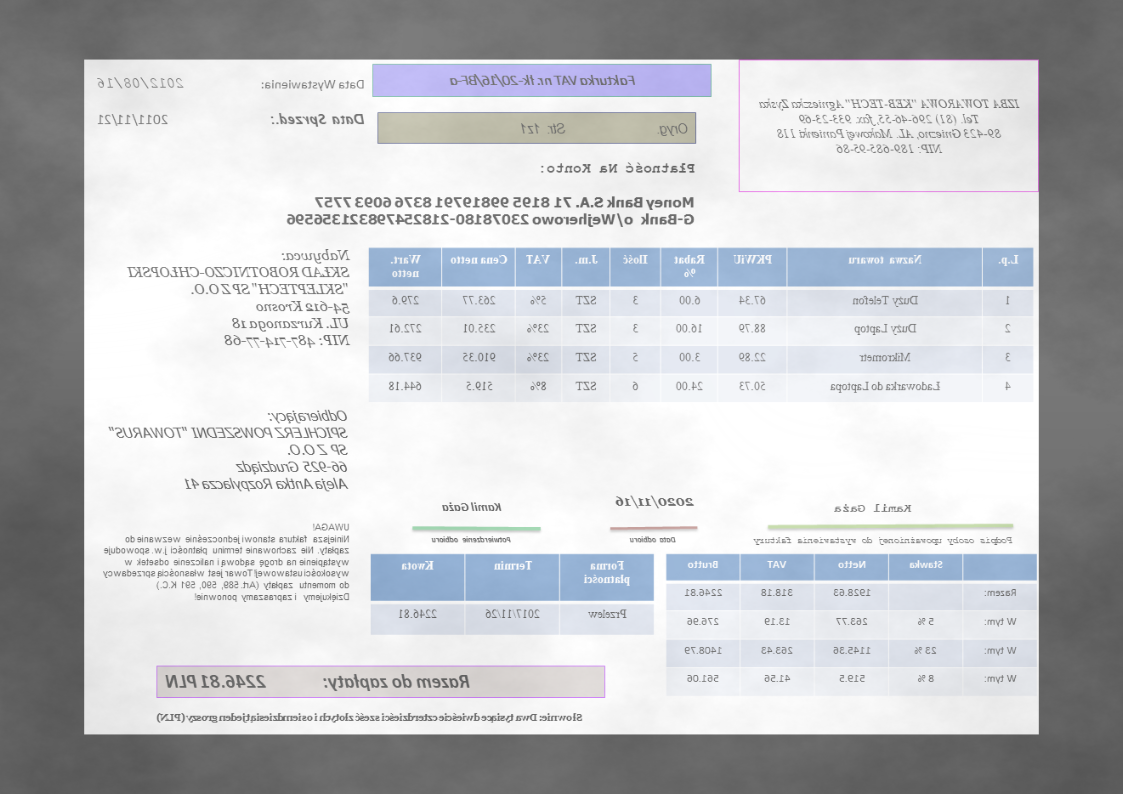Table: (368, 245, 1035, 404), (666, 553, 1038, 696), (370, 552, 655, 636)
TextBox: (125, 246, 353, 351), (104, 406, 351, 494), (99, 519, 353, 604), (757, 93, 1022, 157), (284, 192, 697, 230), (162, 670, 474, 693), (155, 709, 586, 725), (751, 533, 1015, 548), (446, 71, 640, 90), (518, 119, 690, 139), (539, 160, 699, 178), (264, 111, 368, 129), (94, 74, 186, 92), (258, 76, 367, 91), (614, 492, 697, 510), (94, 111, 172, 128), (830, 501, 914, 516), (431, 532, 513, 546), (440, 499, 506, 514), (627, 534, 679, 546)
